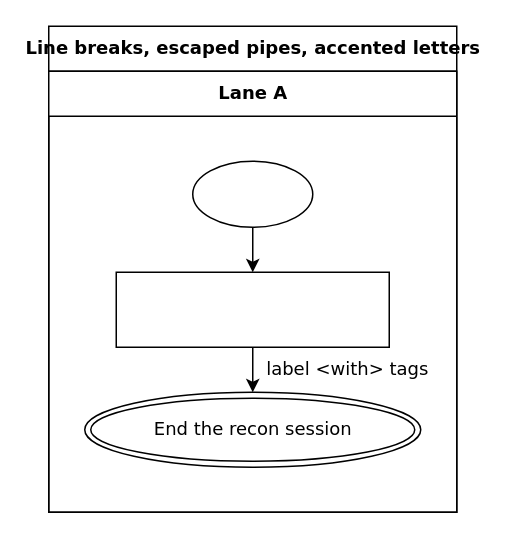
This 506x539 diagram has some shape labels left out. Each missing label, with the centre of its shape:
"Line one Line two | résumé | café" belongs at pixel 252 309.
"Start" belongs at pixel 252 193.
